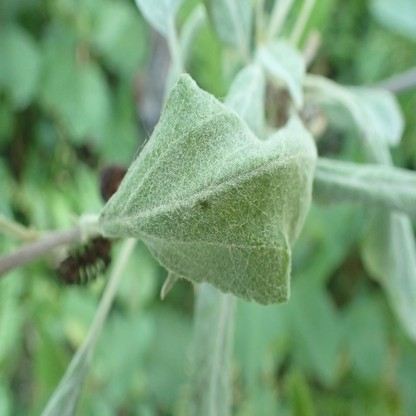powder: (102, 73, 319, 307)
